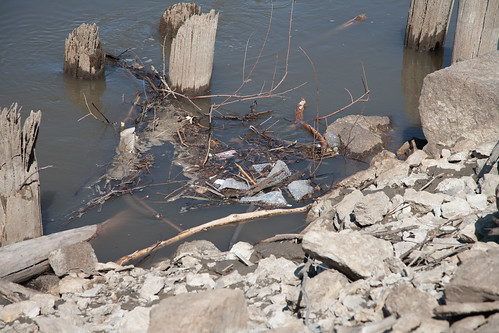rocks: (17, 154, 499, 333)
train: (61, 52, 336, 236)
